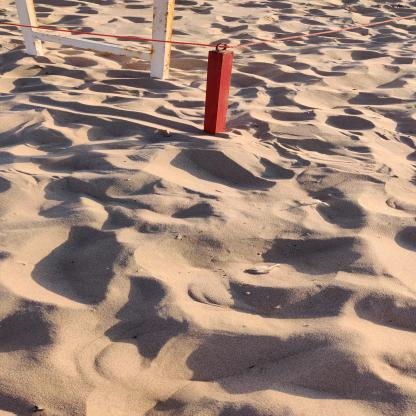Cigarette: (75, 86, 79, 88)
Plastic film: (245, 264, 281, 274)
